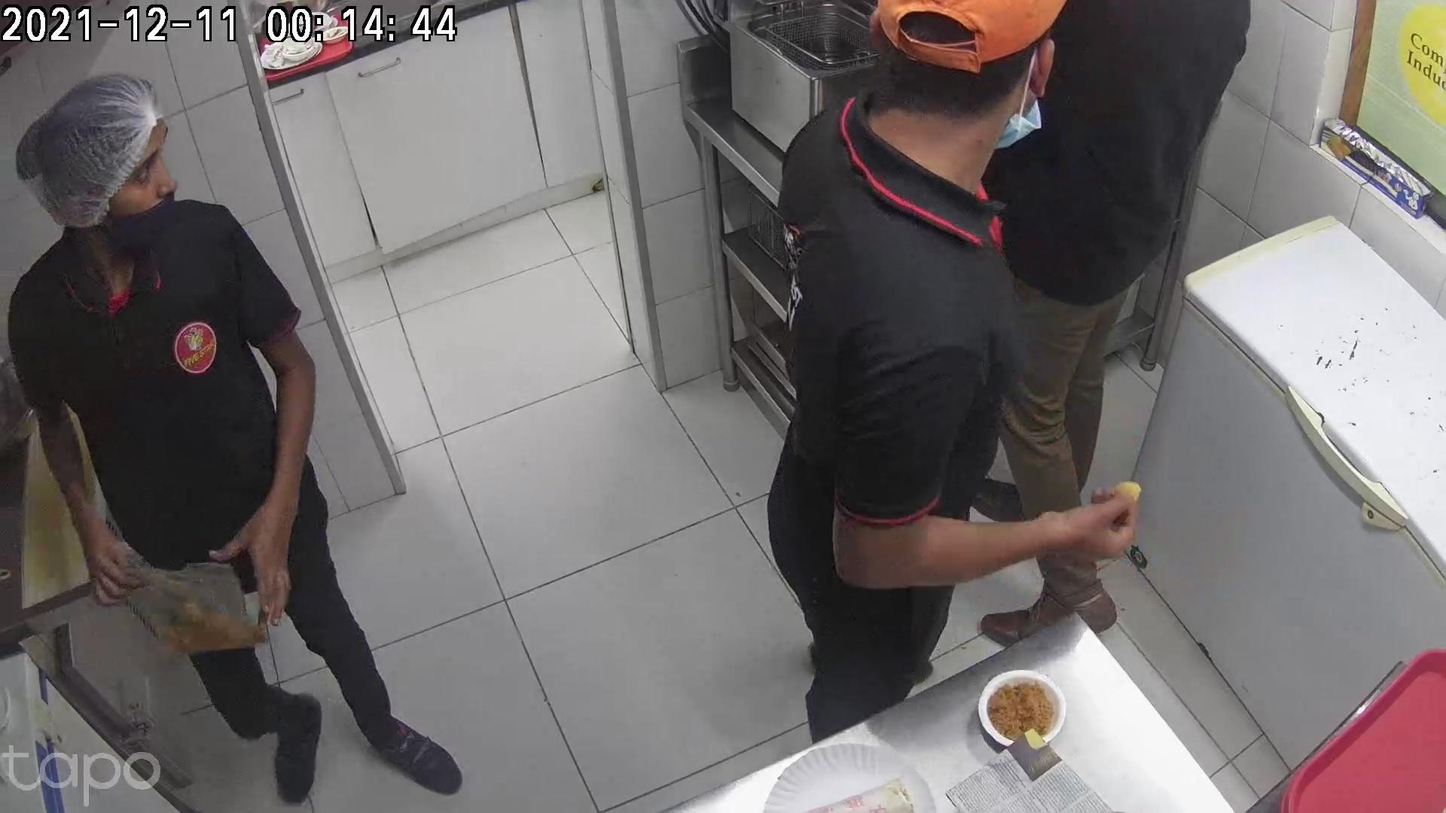gloves: (595, 567, 713, 792)
